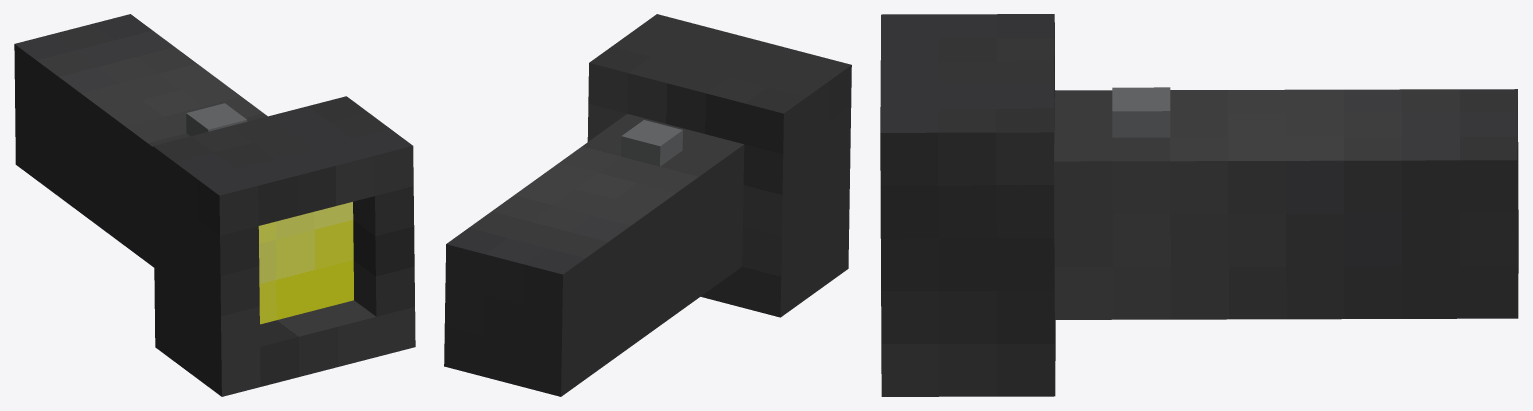
3 renders of one model, left to right at view 1: azimuth 30°, elevation 25°; view 2: azimuth 150°, elevation 25°; view 3: azimuth 270°, elevation 25°, orthographic. The views are drawn at different scales.
Parts seen in each view (by area): view 1: da0cabad-91bf-6aad-1608-4f2f56841615_8, d92999b3-c5b9-3d79-f9ad-a534beb1fc19_5, 650b55fa-4faa-a2cd-7e35-3208c6b07ea5_4, 9f4c9577-0e89-047c-652a-72264c632b91_6, f4002ded-acf5-dd82-9eb1-9864a1fd8e79_0, 3fb18631-482e-8b4d-361d-16ed58e561ea_7, ba9f582a-ca85-31b1-55c8-c20f407b3583_3; view 2: da0cabad-91bf-6aad-1608-4f2f56841615_8, d92999b3-c5b9-3d79-f9ad-a534beb1fc19_5, 9f4c9577-0e89-047c-652a-72264c632b91_6, 650b55fa-4faa-a2cd-7e35-3208c6b07ea5_4, ba9f582a-ca85-31b1-55c8-c20f407b3583_3, 3fb18631-482e-8b4d-361d-16ed58e561ea_7; view 3: da0cabad-91bf-6aad-1608-4f2f56841615_8, 650b55fa-4faa-a2cd-7e35-3208c6b07ea5_4, 9f4c9577-0e89-047c-652a-72264c632b91_6, d92999b3-c5b9-3d79-f9ad-a534beb1fc19_5, ba9f582a-ca85-31b1-55c8-c20f407b3583_3.
Part boxes in pixels (x1=…): da0cabad-91bf-6aad-1608-4f2f56841615_8: x1=14, y1=14, x2=267, y2=267; d92999b3-c5b9-3d79-f9ad-a534beb1fc19_5: x1=153, y1=136, x2=260, y2=396; 650b55fa-4faa-a2cd-7e35-3208c6b07ea5_4: x1=308, y1=96, x2=415, y2=356; 9f4c9577-0e89-047c-652a-72264c632b91_6: x1=192, y1=106, x2=374, y2=225; f4002ded-acf5-dd82-9eb1-9864a1fd8e79_0: x1=258, y1=202, x2=353, y2=324; 3fb18631-482e-8b4d-361d-16ed58e561ea_7: x1=260, y1=300, x2=376, y2=386; ba9f582a-ca85-31b1-55c8-c20f407b3583_3: x1=186, y1=103, x2=247, y2=136; da0cabad-91bf-6aad-1608-4f2f56841615_8: x1=444, y1=114, x2=744, y2=396; d92999b3-c5b9-3d79-f9ad-a534beb1fc19_5: x1=741, y1=55, x2=851, y2=317; 9f4c9577-0e89-047c-652a-72264c632b91_6: x1=627, y1=24, x2=812, y2=143; 650b55fa-4faa-a2cd-7e35-3208c6b07ea5_4: x1=587, y1=14, x2=695, y2=141; ba9f582a-ca85-31b1-55c8-c20f407b3583_3: x1=621, y1=120, x2=682, y2=166; 3fb18631-482e-8b4d-361d-16ed58e561ea_7: x1=700, y1=267, x2=742, y2=307; da0cabad-91bf-6aad-1608-4f2f56841615_8: x1=1054, y1=89, x2=1518, y2=319; 650b55fa-4faa-a2cd-7e35-3208c6b07ea5_4: x1=880, y1=108, x2=1055, y2=396; 9f4c9577-0e89-047c-652a-72264c632b91_6: x1=880, y1=37, x2=1054, y2=143; d92999b3-c5b9-3d79-f9ad-a534beb1fc19_5: x1=881, y1=14, x2=1054, y2=79; ba9f582a-ca85-31b1-55c8-c20f407b3583_3: x1=1112, y1=87, x2=1170, y2=137.
Bounding box in the file's own units: 0.648 × 0.6486 × 1.41.
Materials: 2 (2 with a texture image).
